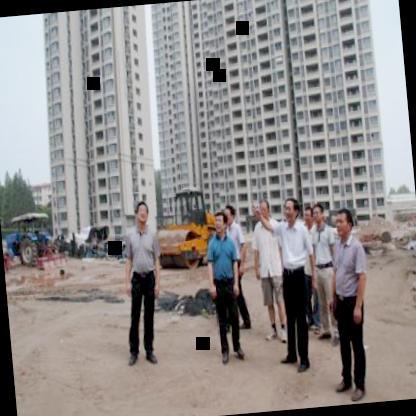head: (332, 203, 356, 241), (280, 194, 302, 228), (132, 198, 152, 226), (212, 209, 228, 236), (310, 200, 326, 225), (223, 201, 238, 226), (258, 196, 272, 221), (302, 202, 314, 229)
